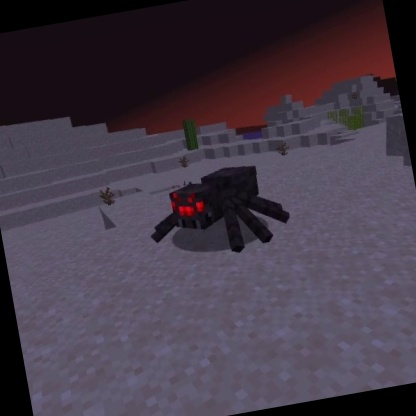spider: (138, 154, 298, 271)
